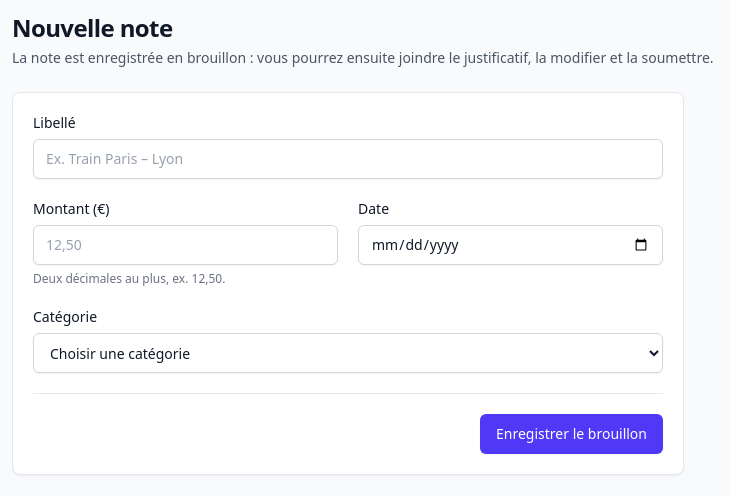
Scenario: NewExpensePage › C3 – une erreur du serveur s'affiche sous le champ concerné
Expected: the dropdown labelled "Catégorie" is shown, [33,333,663,373]
Type "Taxi" into the field labelled "Libellé" at x=348, y=159, box [33,139,663,179]
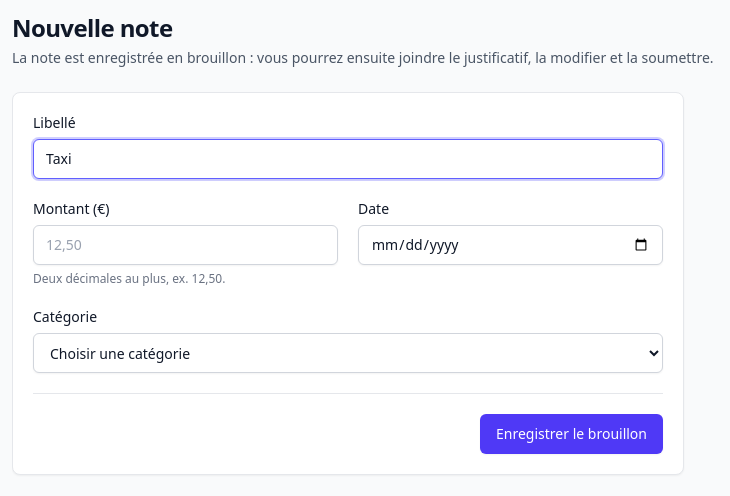
Type "20" into the field labelled "Montant (€)" at x=186, y=245, box [33,225,338,265]
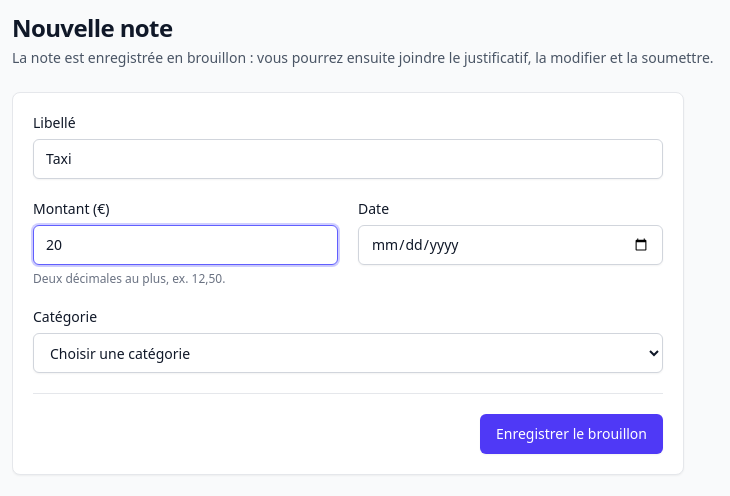
Type "2026-10-11" into the date field labelled "Date" at x=510, y=245, box [358,225,663,265]
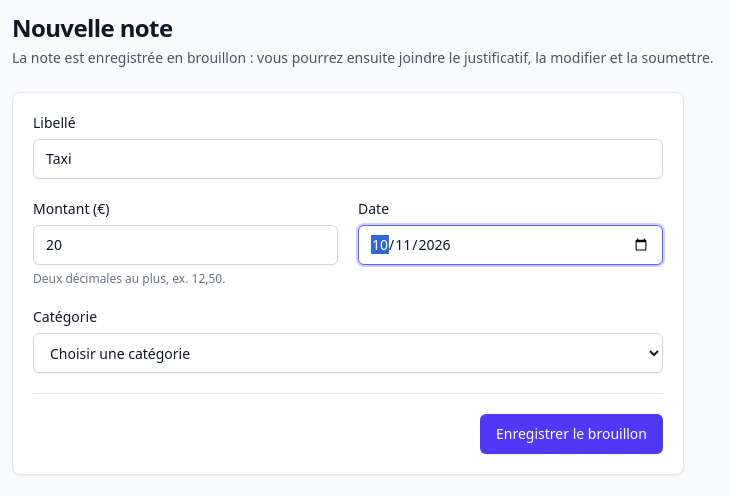
Select "Transport" in the dropdown labelled "Catégorie" at x=348, y=353, box [33,333,663,373]
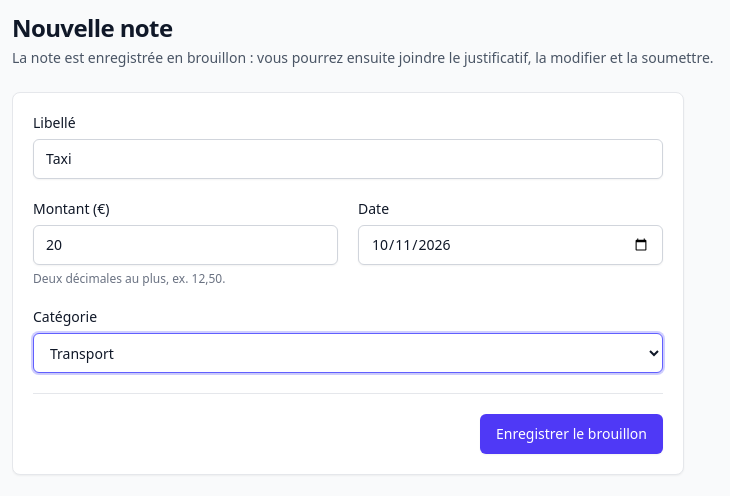
Click the button "Enregistrer le brouillon" at x=572, y=434, box [480,414,663,454]
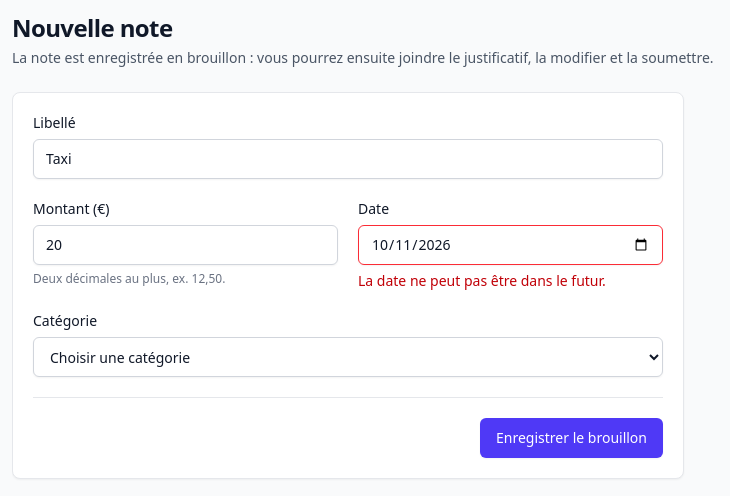
Result: the text "La date ne peut pas être dans le futur." is shown at [358,271,606,290]
